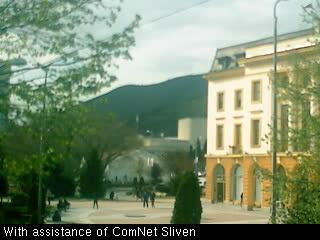person: (141, 190, 149, 208), (91, 194, 98, 209), (150, 191, 156, 207), (239, 191, 244, 207), (109, 190, 115, 202), (46, 193, 51, 204)
